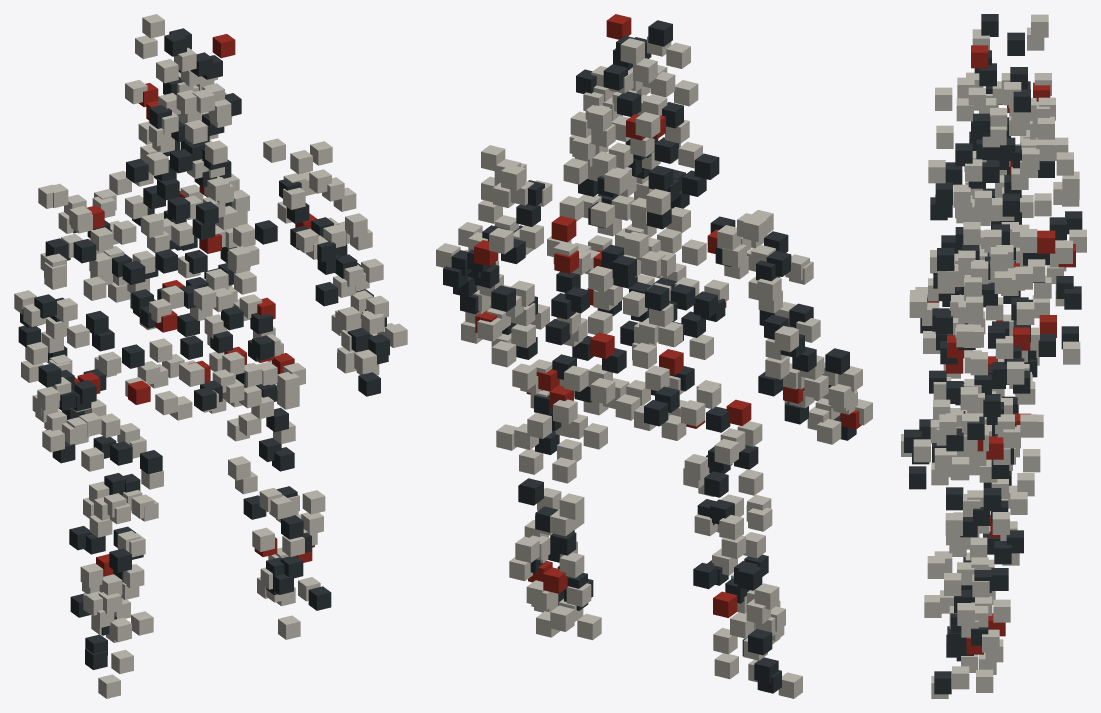
The picture shows the model from 3 angles, left to right: view 1: azimuth 30°, elevation 25°; view 2: azimuth 150°, elevation 25°; view 3: azimuth 270°, elevation 25°; orthographic projection. The views are drawn at different scales.
Parts seen in each view (by area): view 1: nanite-mech-painted; view 2: nanite-mech-painted; view 3: nanite-mech-painted.
Part boxes in pixels (x1,y1,x2,y2): nanite-mech-painted: [14, 14, 407, 698]; nanite-mech-painted: [436, 14, 872, 698]; nanite-mech-painted: [901, 14, 1086, 698].
Bounding box in the file's own units: 6.1 × 10 × 2.61.
